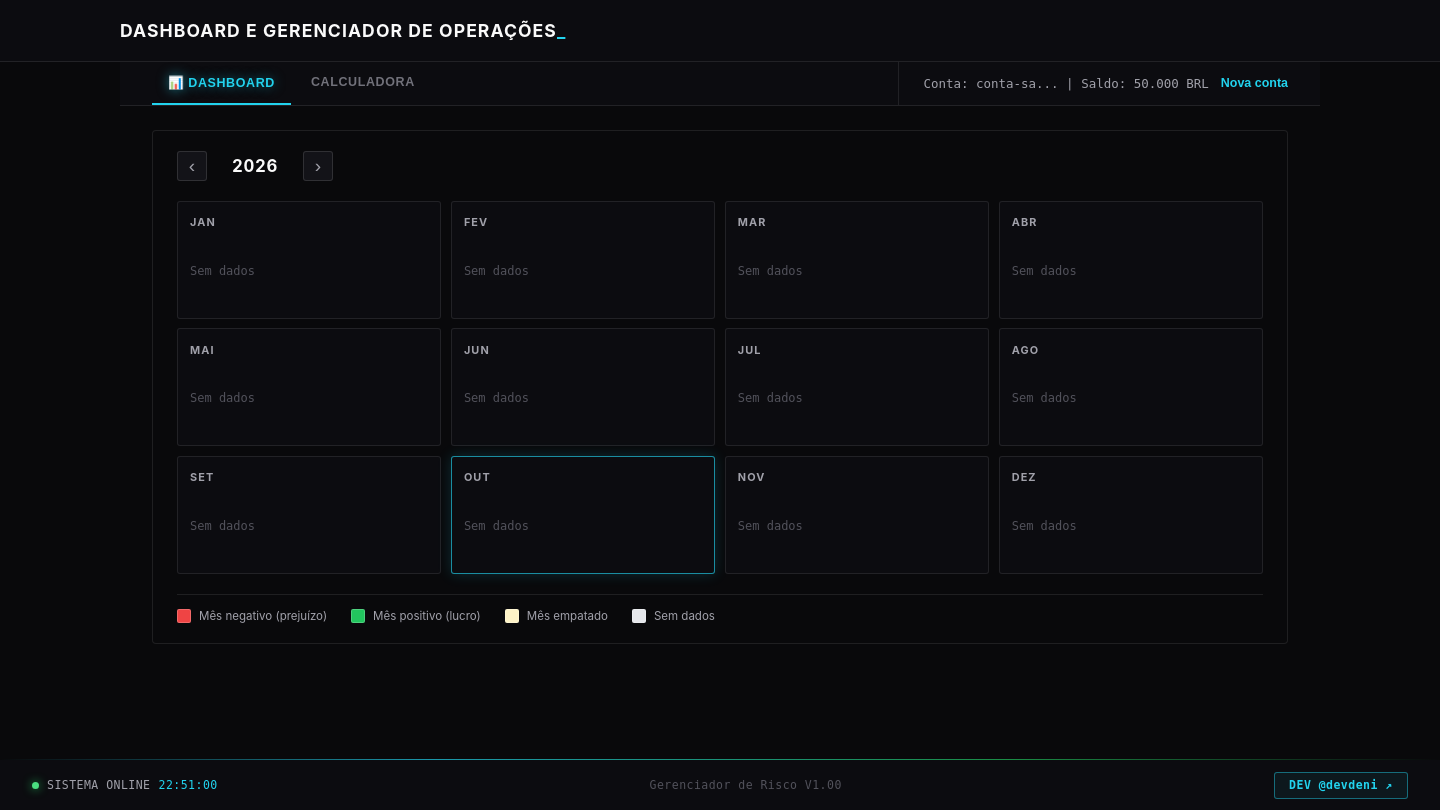
Test: CreateAccountModal reabertura › voltar do mês retorna ao dashboard
Click the cell with class "month-tile" showing "Jan Sem dados" at [223, 271], box [177, 201, 441, 319]
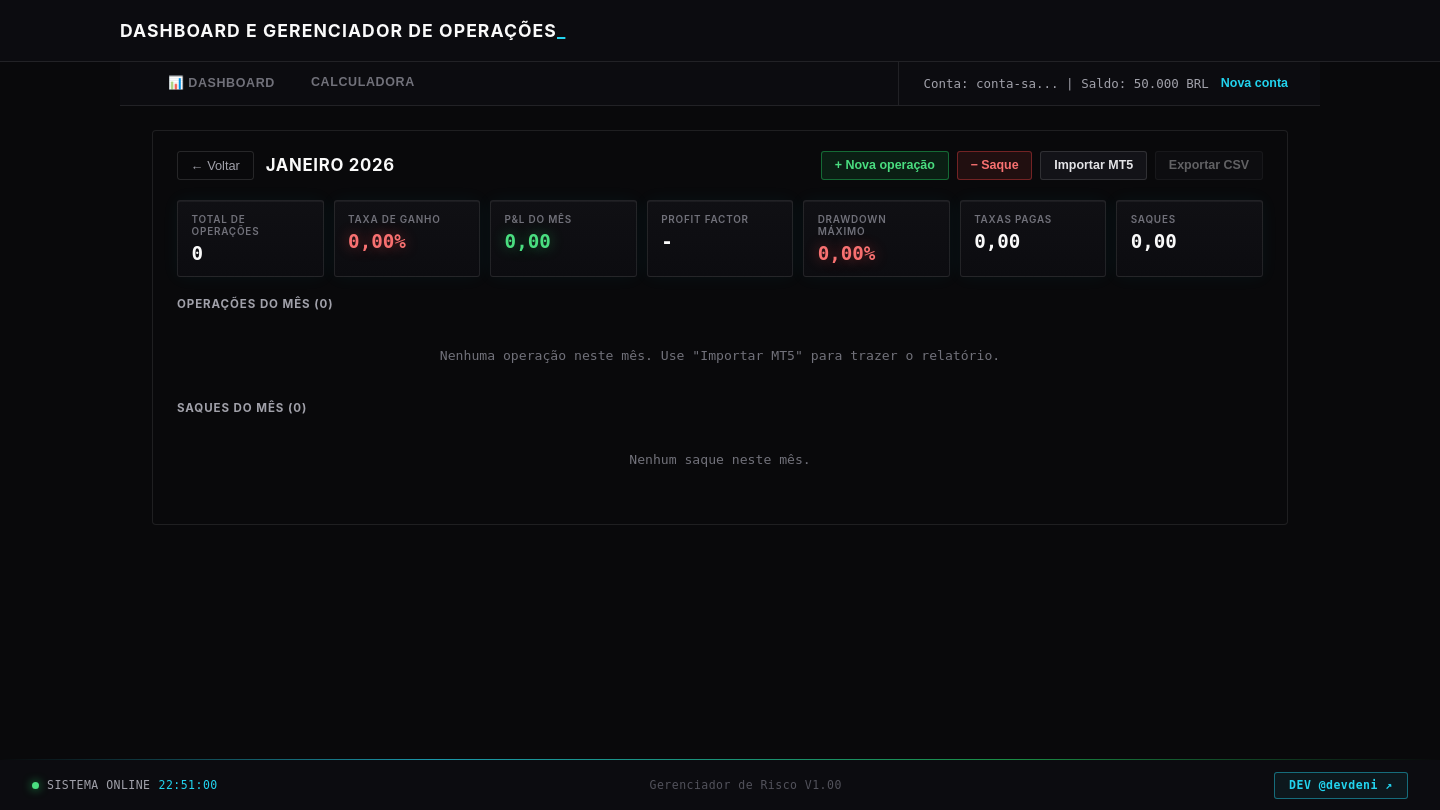
Expected: the element with class "drilldown-container" is shown, [152, 130, 1288, 525]
Expected: the button with aria-label "Voltar" is shown
Click the button with aria-label "Voltar" at [215, 166], box [177, 151, 254, 180]
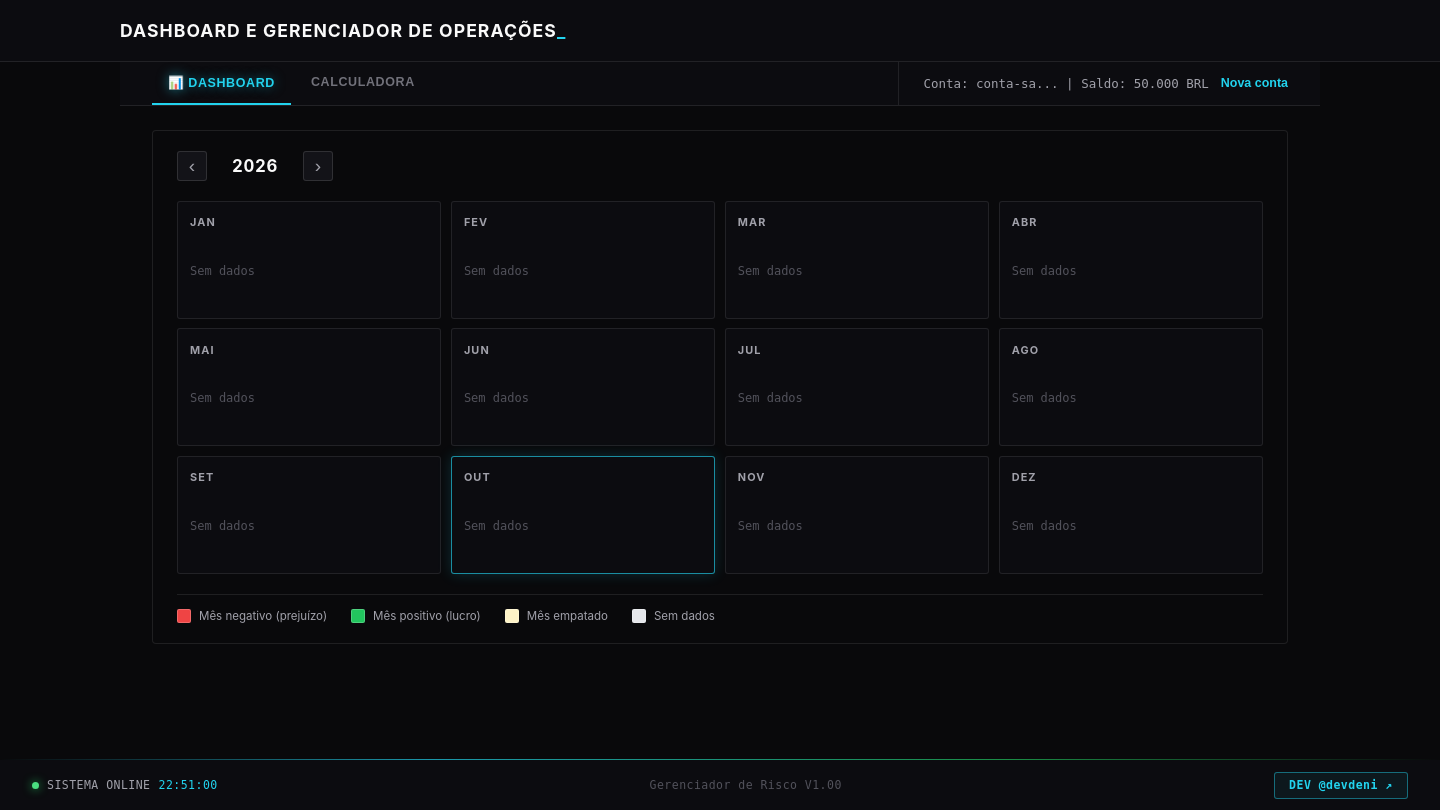
Expected: the element with class "drilldown-container" is gone
Expected: the table with class "months-grid" is shown, [177, 201, 1263, 574]
